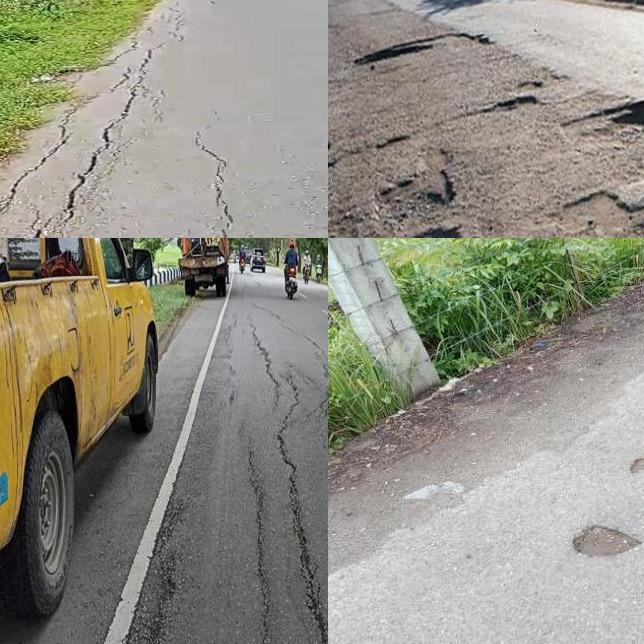Lubang: (564, 102, 644, 152), (576, 521, 636, 558)
Memanjang: (15, 47, 166, 238), (244, 320, 328, 644), (194, 140, 246, 238)
